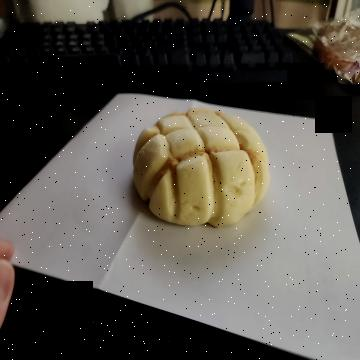melon_bread: (132, 109, 272, 228)
